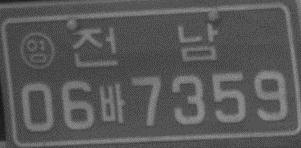0: (21, 82, 55, 131)
3: (171, 74, 205, 125)
5: (211, 72, 247, 124)
6: (60, 80, 95, 131)
7: (130, 75, 162, 127)
9: (252, 69, 287, 122)
바: (97, 82, 127, 124)
영: (19, 32, 56, 70)
전남_D: (72, 23, 219, 67)
